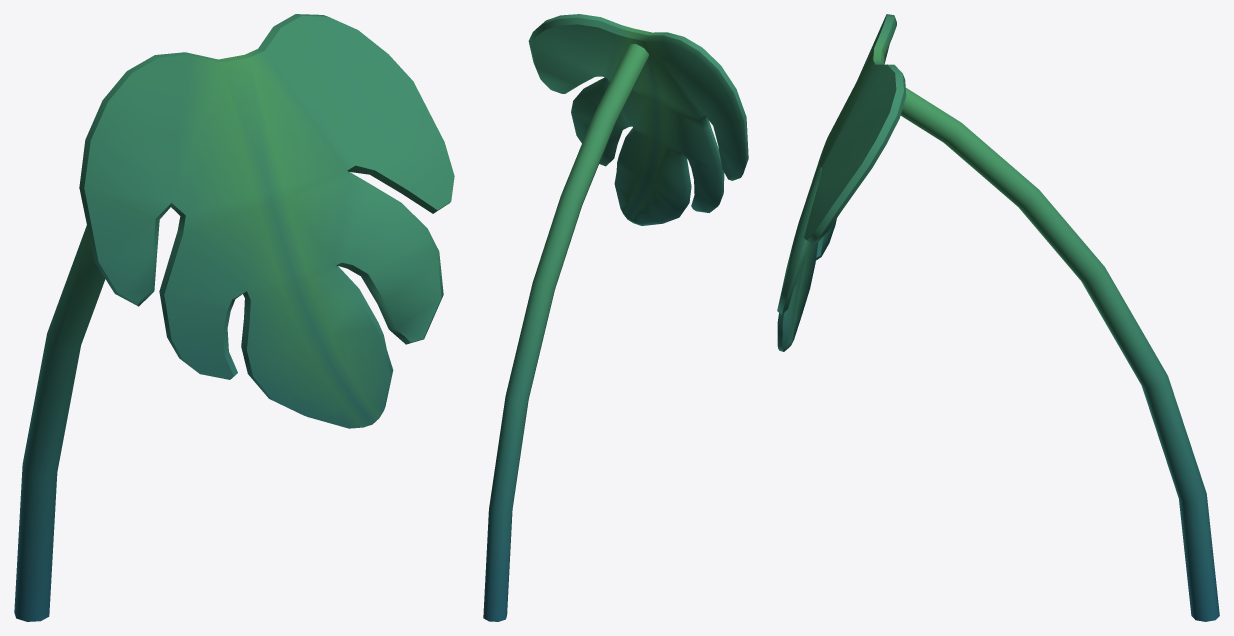
File: house_plants_plants_large_monstera_leaf_0jt5ptcoka.glb
3 views of the same model, side by side, from view 1: azimuth 30°, elevation 25°; view 2: azimuth 150°, elevation 25°; view 3: azimuth 270°, elevation 25° (orthographic). The views are drawn at different scales.
Parts seen in each view (by area): view 1: monstera_leaf_large_B; view 2: monstera_leaf_large_B; view 3: monstera_leaf_large_B.
Part boxes in pixels (x1=…): monstera_leaf_large_B: x1=14, y1=14, x2=454, y2=621; monstera_leaf_large_B: x1=483, y1=14, x2=748, y2=621; monstera_leaf_large_B: x1=777, y1=14, x2=1219, y2=621.
Bounding box in the file's own units: 1.08 × 2.21 × 1.55.
1 material, 1 textured.
